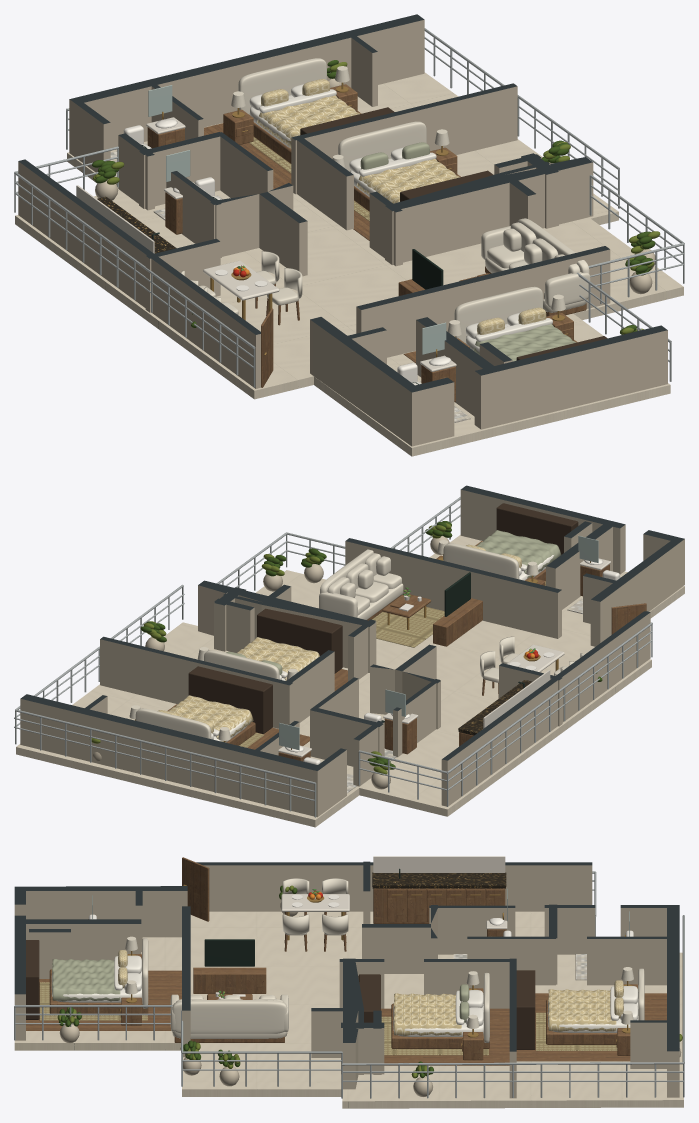
3 renders of one model, top to bottom at view 1: azimuth 30°, elevation 25°; view 2: azimuth 150°, elevation 25°; view 3: azimuth 270°, elevation 25°, orthographic. The views are drawn at different scales.
Visible parts, largest first — view 1: Source-traced internal and perimeter walls • Wall, Continuous apartment foundation, Soft jacquard duvet with folds, Padded headboard, Padded headboard.002, Soft jacquard duvet with folds.001, Padded headboard.001, Soft jacquard duvet with folds.002, Dining top, Rounded armrest, Backsplash, Balcony top rail.002 (+10 smaller); view 2: Source-traced internal and perimeter walls • Wall, Continuous apartment foundation, Fitted dark wardrobe, Fitted dark wardrobe.001, Fitted dark wardrobe.002, Living patterned carpet, Soft jacquard duvet with folds, Soft jacquard duvet with folds.002, Soft jacquard duvet with folds.001, Padded headboard.002, Walnut media console, Padded headboard (+15 smaller); view 3: Source-traced internal and perimeter walls • Wall, Continuous apartment foundation, Sofa back, Full bedroom wood flooring.002, Soft jacquard duvet with folds.002, Soft jacquard duvet with folds, Soft jacquard duvet with folds.001, Backsplash, Full bedroom wood flooring, Full bedroom wood flooring.001, Deep green kitchen stone, Walnut media console (+34 smaller).
Boxes of the visible parts, x1,y1,x2,y2 form: Source-traced internal and perimeter walls • Wall: [18, 14, 667, 446]; Continuous apartment foundation: [15, 72, 683, 456]; Soft jacquard duvet with folds: [257, 95, 360, 148]; Padded headboard: [238, 58, 326, 114]; Padded headboard.002: [454, 286, 542, 343]; Soft jacquard duvet with folds.001: [356, 158, 459, 203]; Padded headboard.001: [338, 121, 426, 171]; Soft jacquard duvet with folds.002: [473, 324, 576, 361]; Dining top: [203, 260, 279, 300]; Rounded armrest: [545, 272, 590, 307]; Backsplash: [76, 185, 154, 253]; Balcony top rail.002: [14, 171, 255, 348]; Source-traced internal and perimeter walls • Wall: [20, 485, 684, 817]; Continuous apartment foundation: [16, 535, 684, 827]; Fitted dark wardrobe: [188, 666, 272, 733]; Fitted dark wardrobe.001: [257, 608, 342, 673]; Fitted dark wardrobe.002: [496, 503, 578, 554]; Living patterned carpet: [372, 607, 444, 647]; Soft jacquard duvet with folds: [169, 695, 253, 741]; Soft jacquard duvet with folds.002: [476, 530, 561, 578]; Soft jacquard duvet with folds.001: [237, 637, 319, 680]; Padded headboard.002: [443, 543, 519, 579]; Walnut media console: [433, 598, 482, 646]; Padded headboard: [135, 708, 211, 738]; Source-traced internal and perimeter walls • Wall: [14, 861, 679, 1098]; Continuous apartment foundation: [14, 911, 683, 1108]; Sofa back: [172, 1000, 287, 1033]; Full bedroom wood flooring.002: [26, 970, 181, 1030]; Soft jacquard duvet with folds.002: [52, 959, 120, 1001]; Soft jacquard duvet with folds: [548, 989, 616, 1031]; Soft jacquard duvet with folds.001: [393, 993, 461, 1035]; Backsplash: [373, 856, 505, 872]; Full bedroom wood flooring: [516, 993, 666, 1061]; Full bedroom wood flooring.001: [381, 1008, 509, 1065]; Deep green kitchen stone: [372, 872, 506, 887]; Walnut media console: [193, 967, 266, 993].
Bounding box in the file's own units: 10.02 × 1.7 × 14.69.
Materials: 26 (6 with a texture image).
